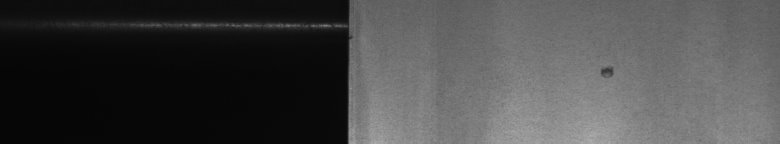fi: (596, 60, 620, 85)
